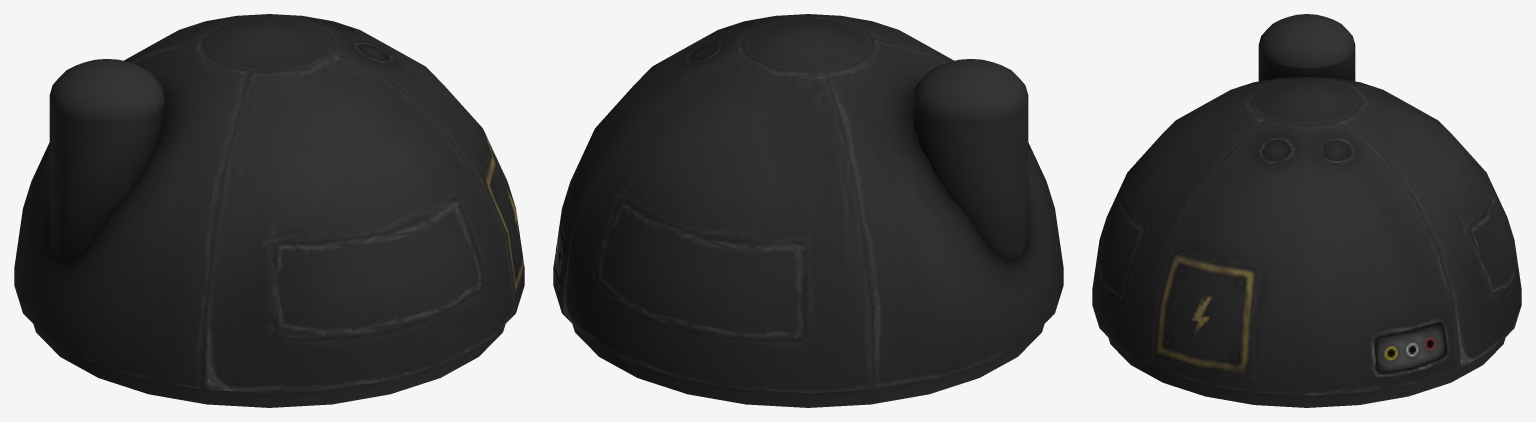
The model's file is bluedog_venera1Probe.dae.
The picture shows the model from 3 angles, left to right: view 1: azimuth 30°, elevation 25°; view 2: azimuth 150°, elevation 25°; view 3: azimuth 270°, elevation 25°; orthographic projection. The views are drawn at different scales.
Visible parts, largest first — view 1: VeneraCore, VeneraProbeArm; view 2: VeneraCore, VeneraProbeArm; view 3: VeneraCore, VeneraProbeArm.
Part boxes in pixels (<box>): VeneraCore: <box>14,14,524,407</box>; VeneraProbeArm: <box>49,59,164,262</box>; VeneraCore: <box>553,14,1063,407</box>; VeneraProbeArm: <box>913,59,1028,262</box>; VeneraCore: <box>1092,76,1521,407</box>; VeneraProbeArm: <box>1258,14,1355,81</box>.
Bounding box in the file's own units: 0.6596 × 0.3968 × 0.6596.
